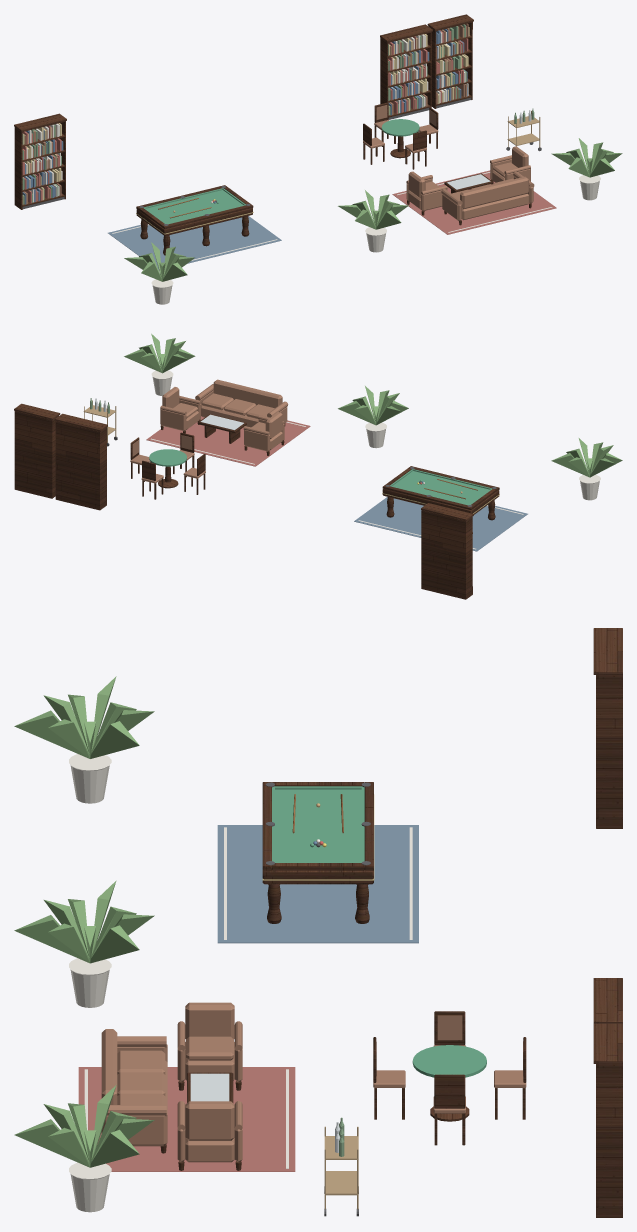
Rendered from club.glb.
3 views of the same model, one above another, from view 1: azimuth 30°, elevation 25°; view 2: azimuth 150°, elevation 25°; view 3: azimuth 270°, elevation 25° (orthographic). The views are drawn at different scales.
Visible parts, largest first — view 1: club_dkwood, club_leather, club_plant, club_rug2, club_cream, club_felt, club_rug, club_book_a, club_book_b, club_book_c, club_book_d, club_bronze (+2 smaller); view 2: club_dkwood, club_leather, club_plant, club_rug2, club_rug, club_felt, club_cream, club_mirror; view 3: club_dkwood, club_leather, club_rug2, club_plant, club_rug, club_felt, club_cream, club_bronze, club_mirror.
Boxes of the visible parts, x1=… form: club_dkwood: x1=14, y1=14, x2=531, y2=255; club_leather: x1=22, y1=23, x2=534, y2=220; club_plant: x1=124, y1=138, x2=622, y2=281; club_rug2: x1=108, y1=216, x2=281, y2=269; club_cream: x1=24, y1=32, x2=600, y2=304; club_felt: x1=144, y1=119, x2=419, y2=224; club_rug: x1=392, y1=170, x2=556, y2=234; club_book_a: x1=22, y1=30, x2=468, y2=203; club_book_b: x1=22, y1=29, x2=467, y2=204; club_book_c: x1=22, y1=24, x2=534, y2=204; club_book_d: x1=22, y1=27, x2=469, y2=204; club_bronze: x1=507, y1=110, x2=540, y2=147; club_dkwood: x1=14, y1=403, x2=499, y2=599; club_leather: x1=130, y1=379, x2=288, y2=483; club_plant: x1=124, y1=333, x2=622, y2=477; club_rug2: x1=354, y1=497, x2=527, y2=551; club_rug: x1=146, y1=416, x2=310, y2=466; club_felt: x1=149, y1=449, x2=491, y2=505; club_cream: x1=151, y1=370, x2=600, y2=549; club_mirror: x1=95, y1=398, x2=243, y2=430; club_dkwood: x1=160, y1=628, x2=622, y2=1217; club_leather: x1=101, y1=1002, x2=526, y2=1162; club_rug2: x1=217, y1=825, x2=418, y2=943; club_plant: x1=14, y1=676, x2=154, y2=1167; club_rug: x1=78, y1=1067, x2=295, y2=1171; club_felt: x1=272, y1=786, x2=486, y2=1077; club_cream: x1=69, y1=754, x2=412, y2=1212; club_bronze: x1=324, y1=1126, x2=358, y2=1209; club_mirror: x1=190, y1=1073, x2=340, y2=1152.
Size of the model in its own units: 14.21 by 2.25 by 7.87.
Materials: 20 (2 with a texture image).
